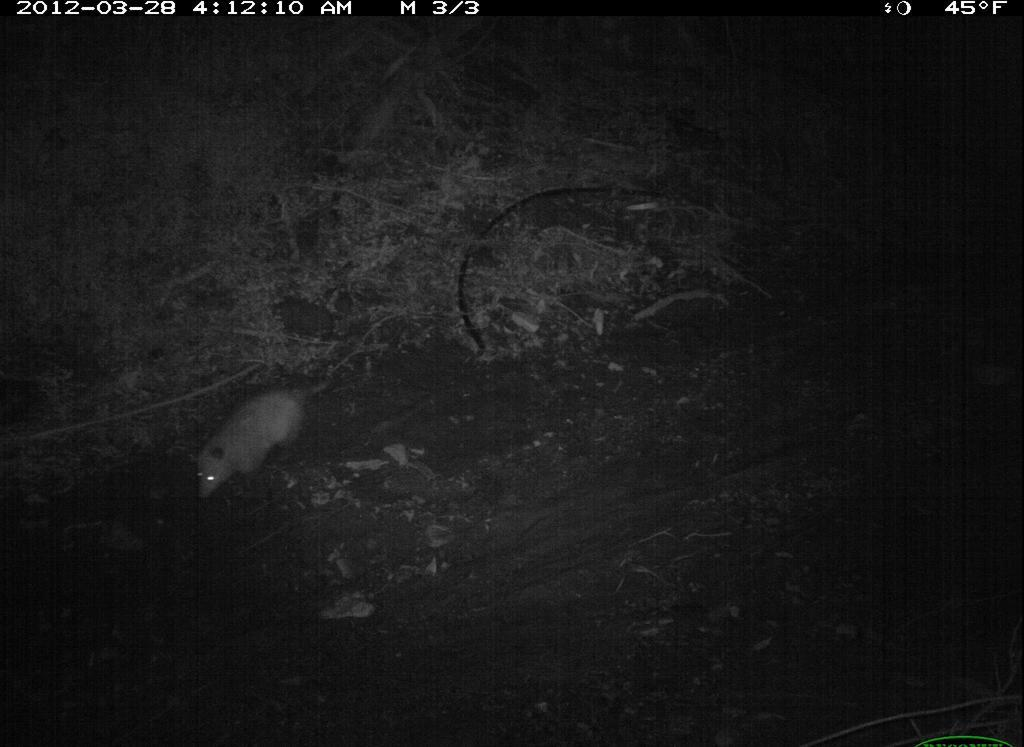opossum: (184, 360, 336, 506)
